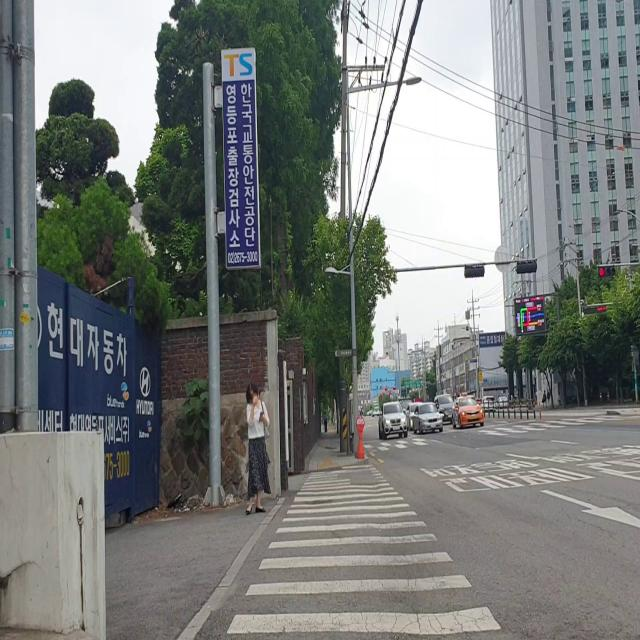횡단보도: (224, 459, 504, 637), (362, 409, 640, 454)
